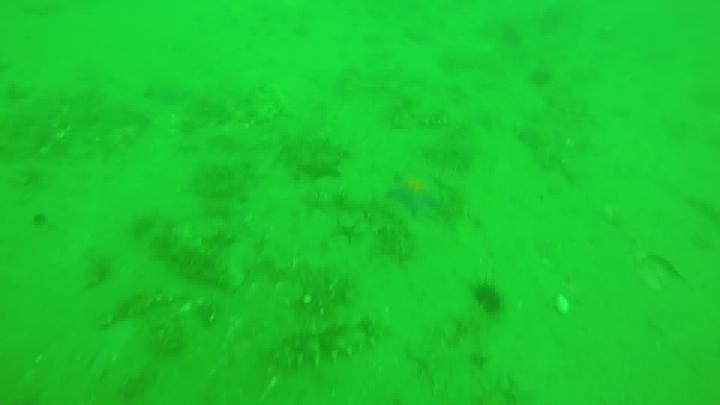echinus: (470, 281, 506, 318), (527, 66, 555, 89)
holothurian: (269, 315, 388, 372), (154, 222, 242, 292), (357, 195, 417, 263), (94, 284, 188, 327), (387, 99, 462, 133)
starfish: (385, 170, 444, 218), (295, 151, 345, 184)
